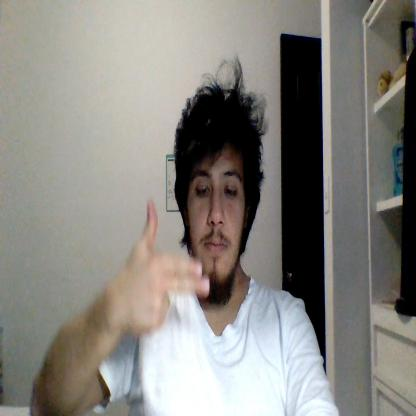H: (120, 199, 209, 332)
